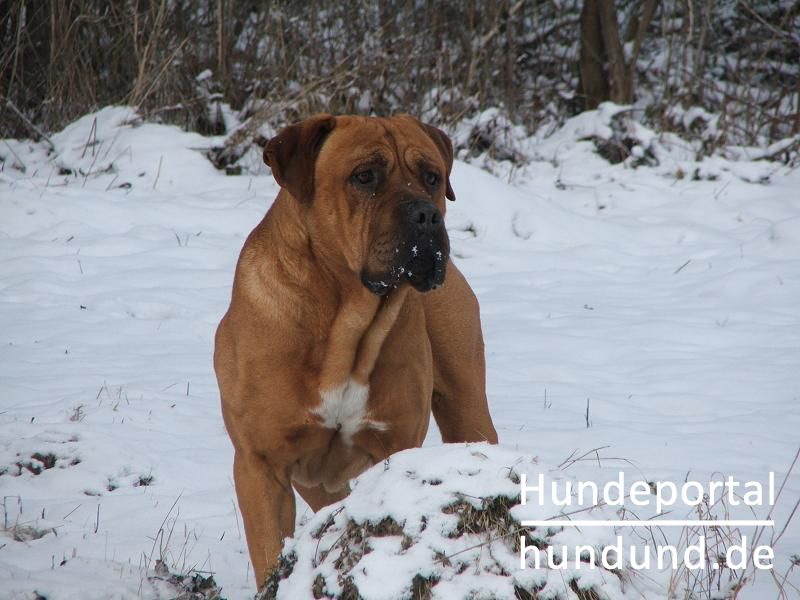tosa_inu: (211, 112, 500, 597)
